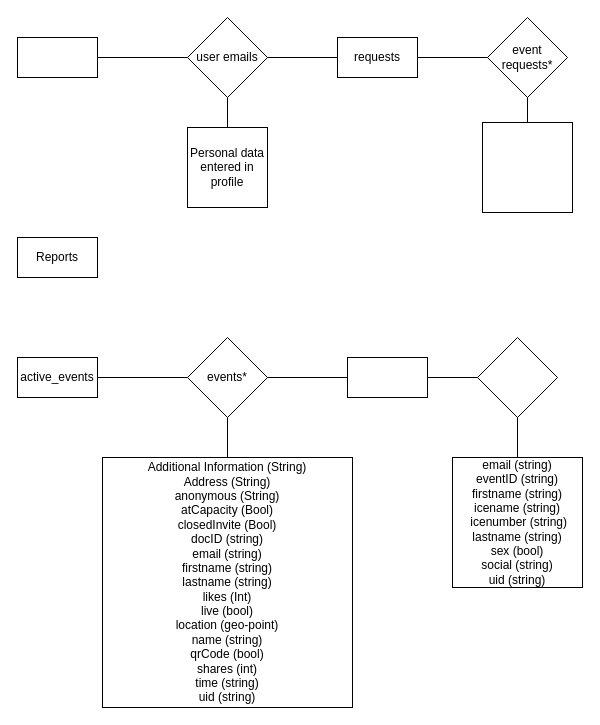
This 600x725 diagram has some shape labels left out. The centre of each missing label's shape, as x and y in pixels:
accepted(bool) docID (String): point (527, 167)
docID: point (517, 377)
guest_list: point (387, 377)
Users: point (57, 57)
